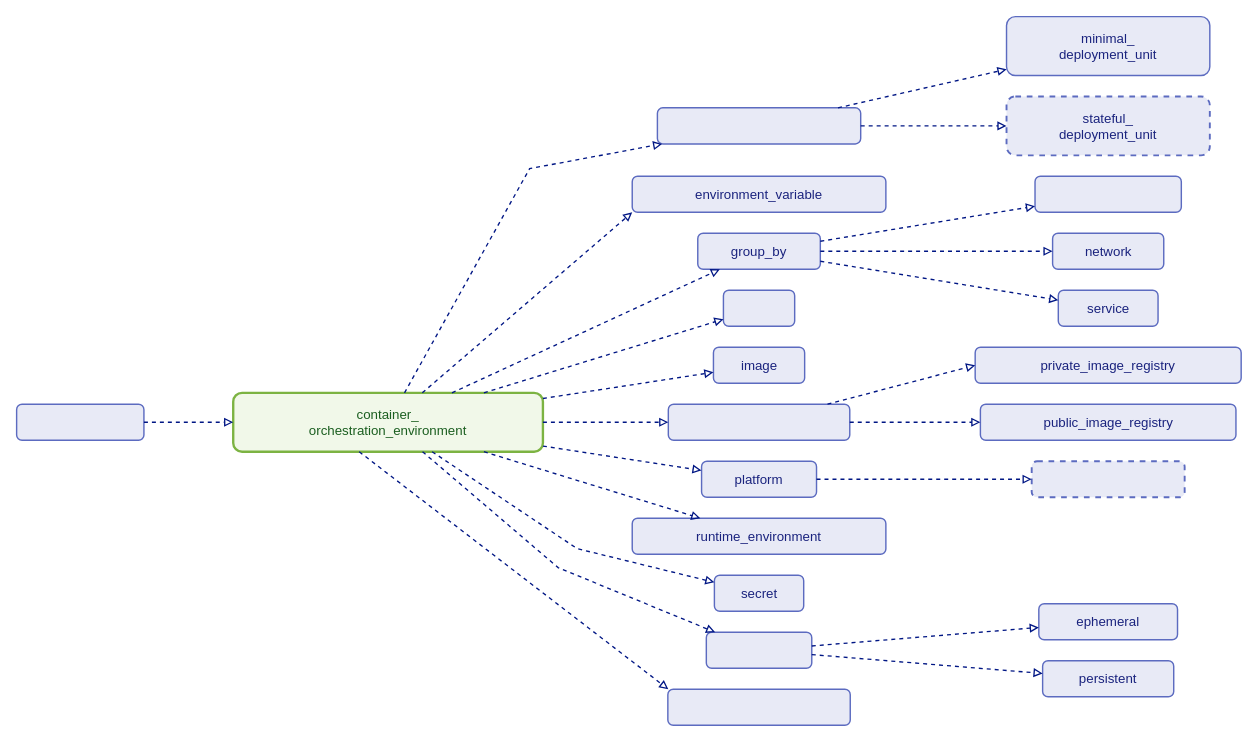
Some shapes in this 1259 by 743 pixel diagram are drawn without their labels. The centre of each missing label's shape, as x and y in pixels:
"deployment_unit" goes at point 758,125.
"host" goes at point 758,308.
"image_registry" goes at point 758,422.
"namespace" goes at point 1108,194.
"owl:Thing" goes at point 79,422.
"storage" goes at point 758,650.
"subplatform" goes at point 1107,479.
"volume_mount" goes at point 759,707.
